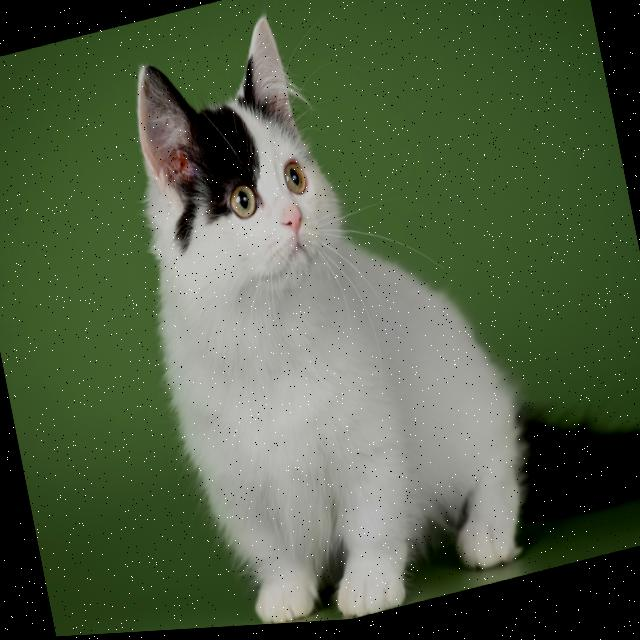Munchkin: (95, 0, 640, 636)
